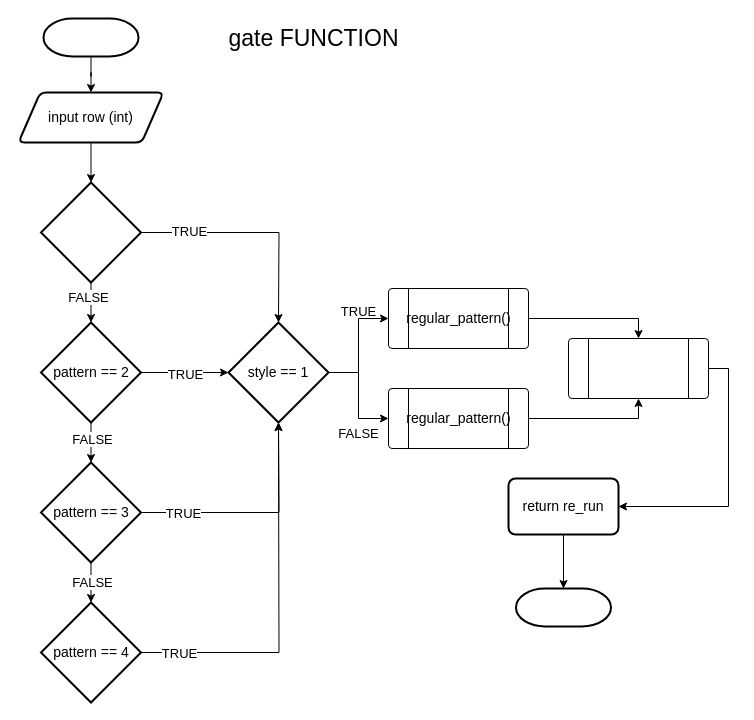
Some shapes in this 754 by 720 pixel diagram are drawn without their labels. Each missing label, with the centre of its shape:
"END" goes at point (563, 607).
"pattern == 1" goes at point (91, 232).
"re_run = input::re_run()" goes at point (638, 368).
"START" goes at point (90, 37).
